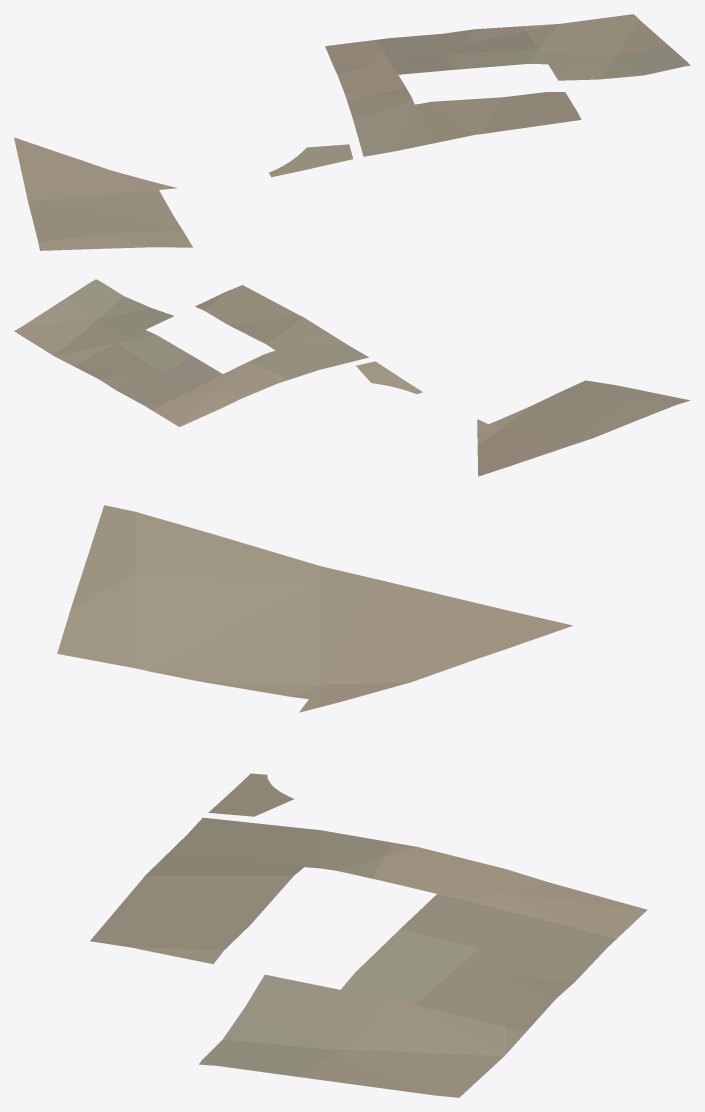
Rendered from farm_-31_-34_soil.glb.
3 views of the same model, one above another, from view 1: azimuth 30°, elevation 25°; view 2: azimuth 150°, elevation 25°; view 3: azimuth 270°, elevation 25° (orthographic). The views are drawn at different scales.
Visible parts, largest first — view 1: geometry_0; view 2: geometry_0; view 3: geometry_0.
Part boxes in pixels (x1,y1,x2,y2): geometry_0: [14, 14, 690, 250]; geometry_0: [14, 279, 690, 476]; geometry_0: [57, 505, 647, 1097].
Size of the model in its own units: 587 by 24.6 by 255.
